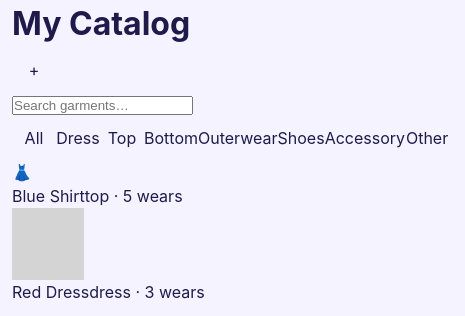
Test case: Catalog › clicking a category filter chip filters garments by category
The width and height of the screenshot is (465, 316).
Expected: the text "Blue Shirt" is shown, x1=12 y1=186 x2=85 y2=206
Note: Click "Top" filter chip
Click the button "Top".
click(122, 138)  # box x1=100 y1=116 x2=144 y2=160
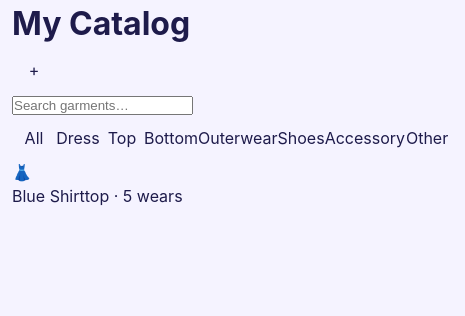
Expected: the text "Blue Shirt" is shown, x1=12 y1=186 x2=85 y2=206
Now the button "Red Dress" is gone
